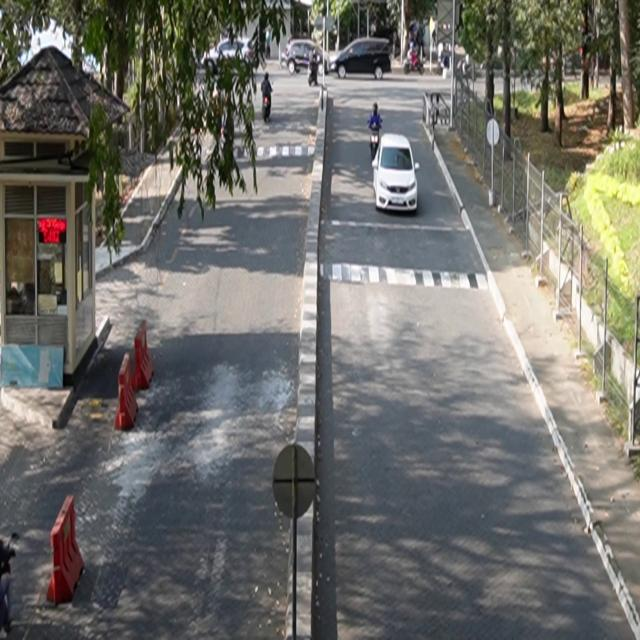car: (373, 133, 421, 213), (282, 39, 330, 76)
